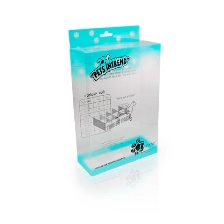plastic_box: (57, 15, 167, 183)
